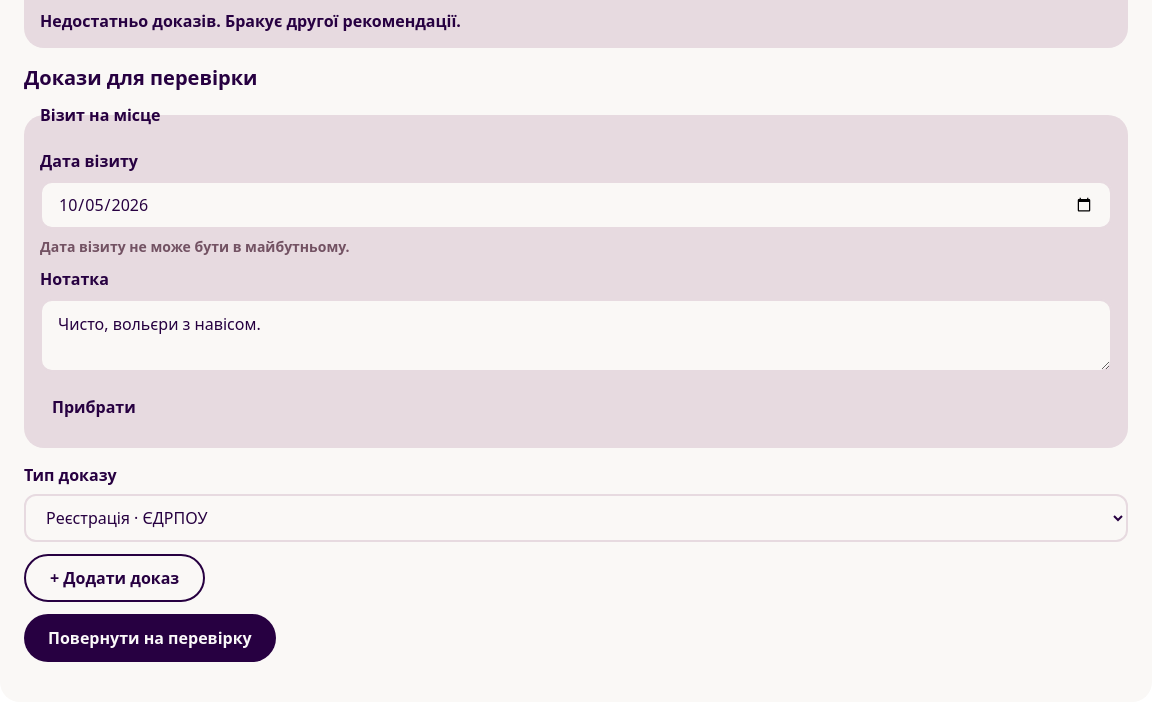
Scenario: resubmit › the server refusing a visit in the future: his message, and the shelter stays rejected
This screenshot has width=1152, height=702.
(page scrolled)
Click the button "Повернути на перевірку".
click(150, 638)  # box [24, 614, 276, 662]
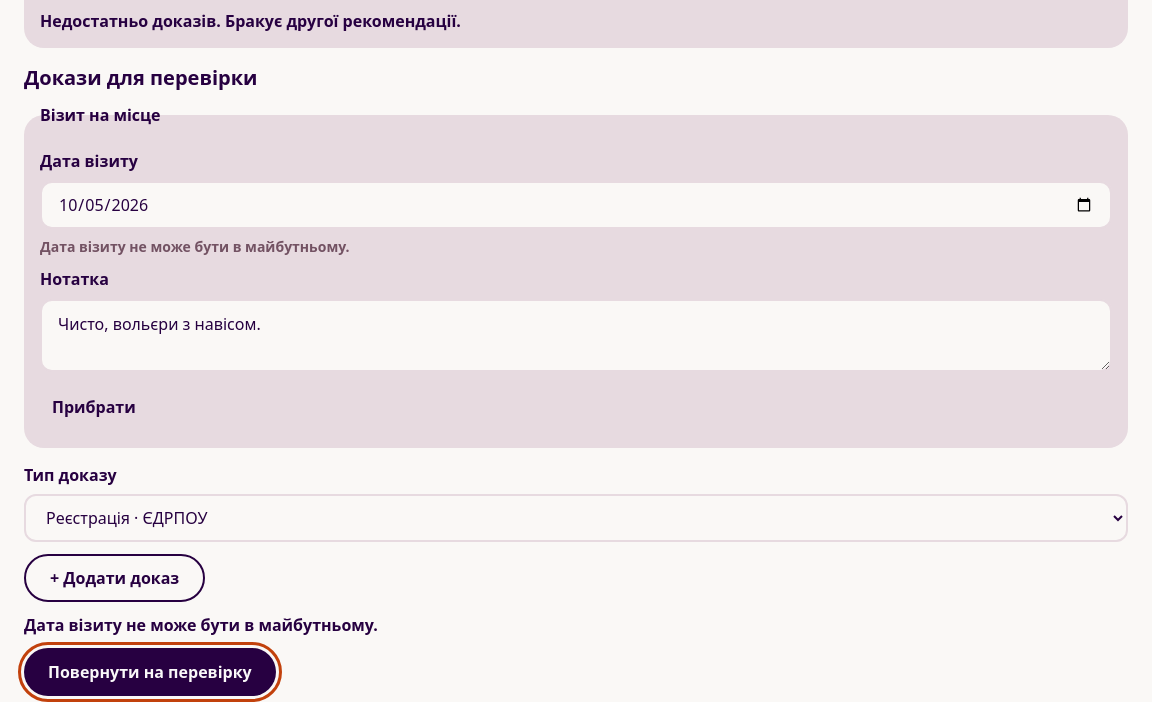
Check: the button "Повернути на перевірку" is shown, box [24, 648, 276, 696]
Check: the message reads "Дата візиту не може бути в майбутньому.", box [24, 614, 378, 636]
